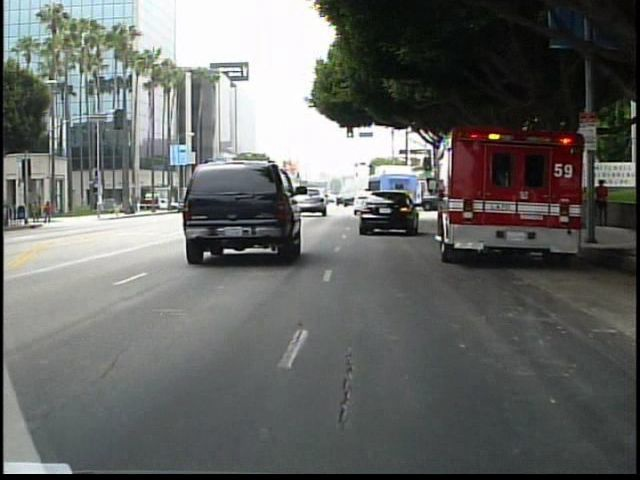person: (592, 177, 611, 229), (44, 198, 57, 226), (32, 200, 44, 226)
